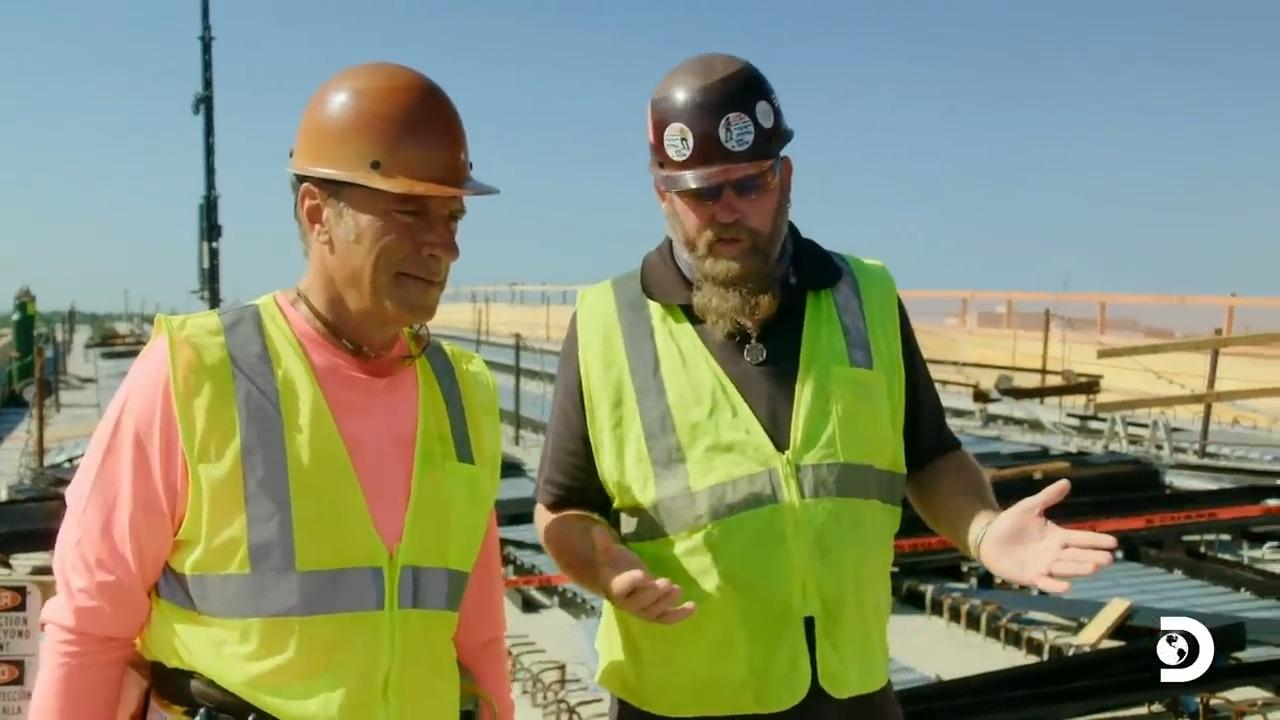Helmet: (286, 60, 500, 197), (646, 51, 794, 192)
Person: (531, 51, 1119, 719), (26, 60, 515, 719)
Safety Vest: (155, 315, 474, 696), (578, 284, 878, 680)
bare-arms: (985, 494, 1112, 608), (588, 552, 684, 631)
